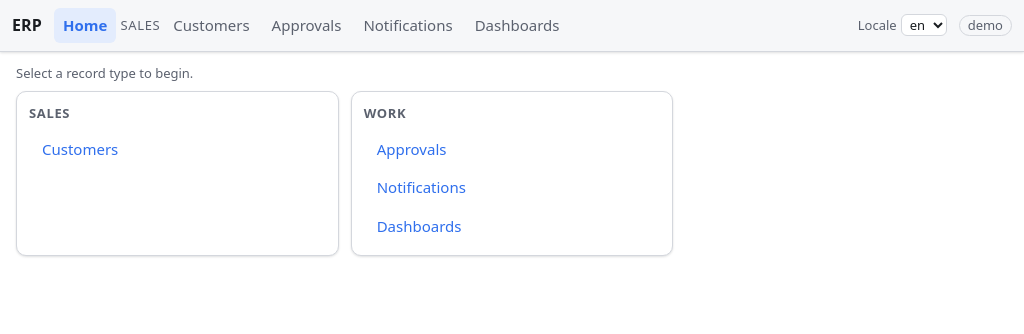
Test: dashboards (PHASE-5 §5) › titles widgets by the report's authored label, never the raw report id
Click the button "Dashboards" in the row of "Locale": [517, 25] box [466,8,568,42]
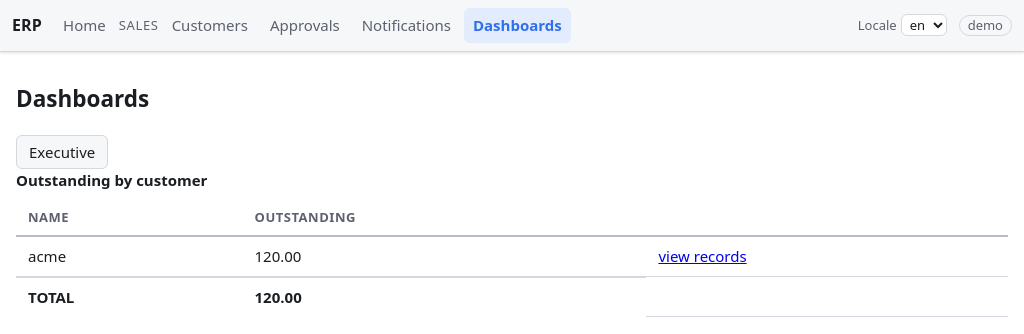
Expected: the text "Outstanding by customer" is shown, [16,170,207,190]
